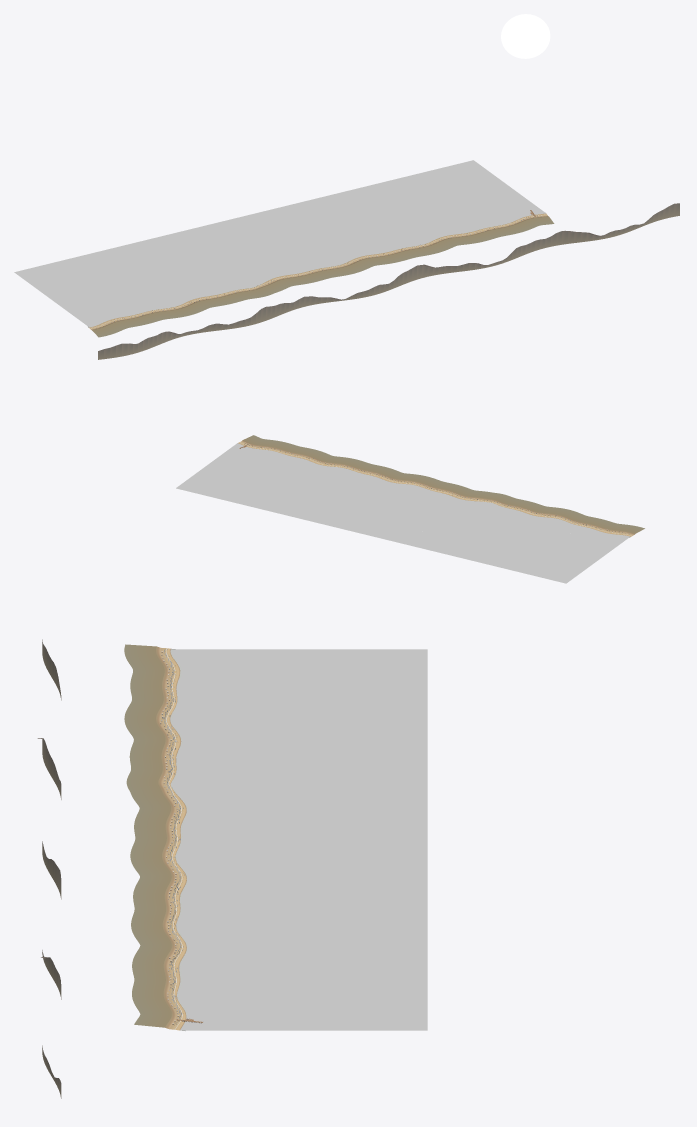
The model's file is santamonica.glb.
3 views of the same model, one above another, from view 1: azimuth 30°, elevation 25°; view 2: azimuth 150°, elevation 25°; view 3: azimuth 270°, elevation 25° (orthographic). The views are drawn at different scales.
Visible parts, largest first — view 1: Peaks, PacificWater_036, PacificWater_029, PacificWater_022, PacificWater_009, PacificWater_002, PacificWater_015, PacificWater_005, PacificWater_016, Sun, PacificWater_023, PacificWater_019 (+20 smaller); view 2: PacificWater_036, PacificWater_029, PacificWater_022, PacificWater_009, PacificWater_002, PacificWater_015, PacificWater_005, PacificWater_016, PacificWater_023, PacificWater_019, PacificWater_026, PacificWater_033 (+19 smaller); view 3: PacificWater_036, PacificWater_029, PacificWater_009, PacificWater_022, PacificWater_002, PacificWater_015, PacificWater_016, PacificWater_005, PacificWater_023, PacificWater_019, PacificWater_026, PacificWater_033 (+21 smaller).
Part boxes in pixels (x1,y1,x2,y2): Peaks: (98, 203, 679, 359); PacificWater_036: (434, 160, 543, 223); PacificWater_029: (346, 182, 452, 245); PacificWater_022: (263, 204, 362, 265); PacificWater_009: (115, 240, 217, 300); PacificWater_002: (28, 262, 129, 322); PacificWater_015: (175, 226, 273, 287); PacificWater_005: (71, 251, 173, 311); PacificWater_016: (203, 219, 303, 277); Sun: (501, 14, 550, 58); PacificWater_023: (293, 198, 388, 255); PacificWater_019: (242, 211, 336, 269); PacificWater_036: (177, 444, 270, 496); PacificWater_029: (254, 463, 346, 514); PacificWater_022: (329, 482, 417, 531); PacificWater_009: (456, 510, 542, 562); PacificWater_002: (530, 529, 616, 580); PacificWater_015: (406, 500, 492, 550); PacificWater_005: (494, 519, 579, 571); PacificWater_016: (382, 493, 465, 544); PacificWater_023: (310, 476, 388, 525); PacificWater_019: (355, 486, 433, 536); PacificWater_026: (285, 469, 361, 518); PacificWater_033: (214, 452, 291, 501); PacificWater_036: (177, 998, 427, 1028); PacificWater_029: (176, 925, 427, 954); PacificWater_009: (176, 732, 427, 757); PacificWater_022: (175, 855, 427, 880); PacificWater_002: (175, 660, 427, 684); PacificWater_015: (170, 783, 427, 806); PacificWater_016: (180, 806, 427, 829); PacificWater_005: (170, 697, 427, 719); PacificWater_023: (180, 880, 427, 899); PacificWater_019: (175, 838, 427, 855); PacificWater_026: (176, 908, 427, 924); PacificWater_033: (177, 977, 427, 992).
Bounding box in the file's own units: 12137 × 1361 × 6214.
